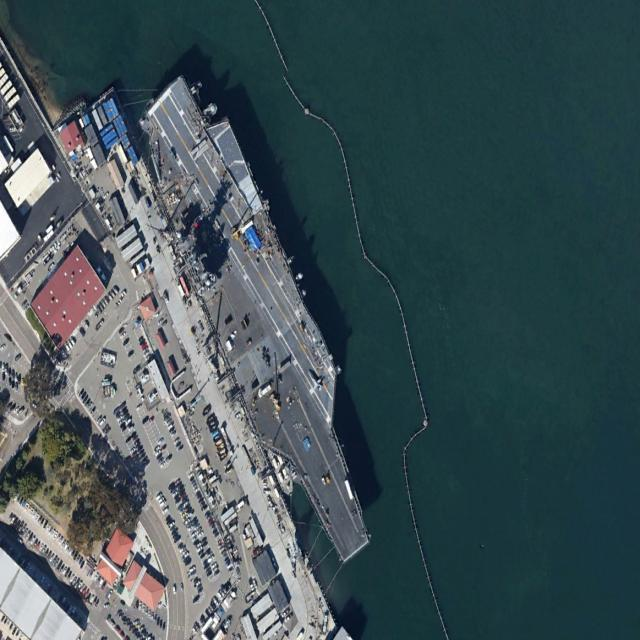Aircraft Carrier: (122, 55, 400, 585)
